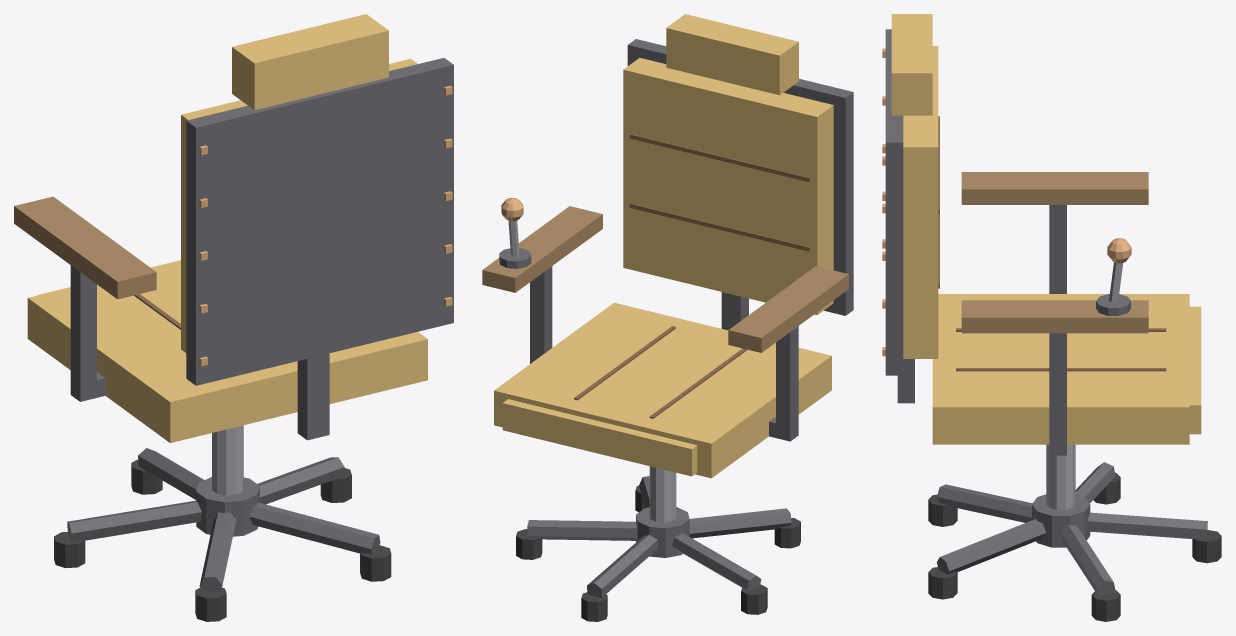
Rendered from grabber_chair.glb.
3 renders of one model, left to right at view 1: azimuth 30°, elevation 25°; view 2: azimuth 150°, elevation 25°; view 3: azimuth 270°, elevation 25°, orthographic. The views are drawn at different scales.
Visible parts, largest first — view 1: GrabberChair; view 2: GrabberChair; view 3: GrabberChair.
Boxes of the visible parts, box(x1,y1,x2,y2) form: GrabberChair: box(14, 14, 453, 621); GrabberChair: box(482, 14, 853, 621); GrabberChair: box(882, 14, 1221, 621).
Size of the model in its own units: 0.59 by 0.97 by 0.581.
